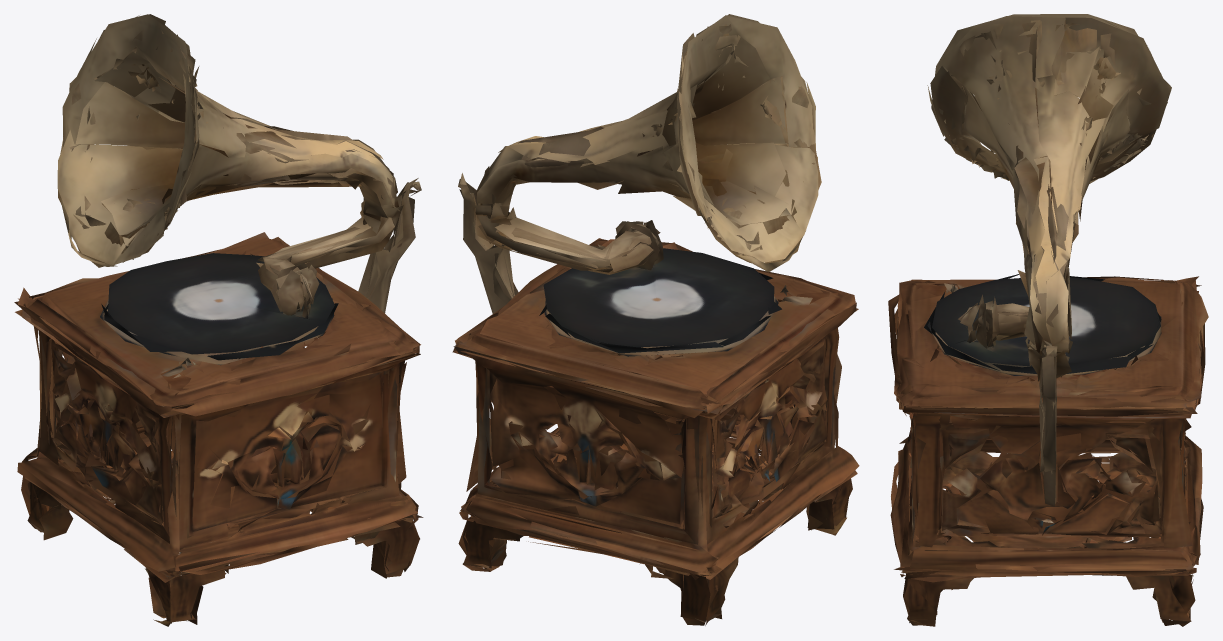
File: unified--detail--musicbox.glb
3 renders of one model, left to right at view 1: azimuth 30°, elevation 25°; view 2: azimuth 150°, elevation 25°; view 3: azimuth 270°, elevation 25°, orthographic.
Parts seen in each view (by area): view 1: musicbox-1; view 2: musicbox-1; view 3: musicbox-1.
Boxes of the visible parts, x1,y1,x2,y2 form: musicbox-1: (14,14,423,626); musicbox-1: (452,14,859,625); musicbox-1: (888,14,1208,626).
Bounding box in the file's own units: 0.3609 × 0.5514 × 0.3005.
Materials: 1 (1 with a texture image).
